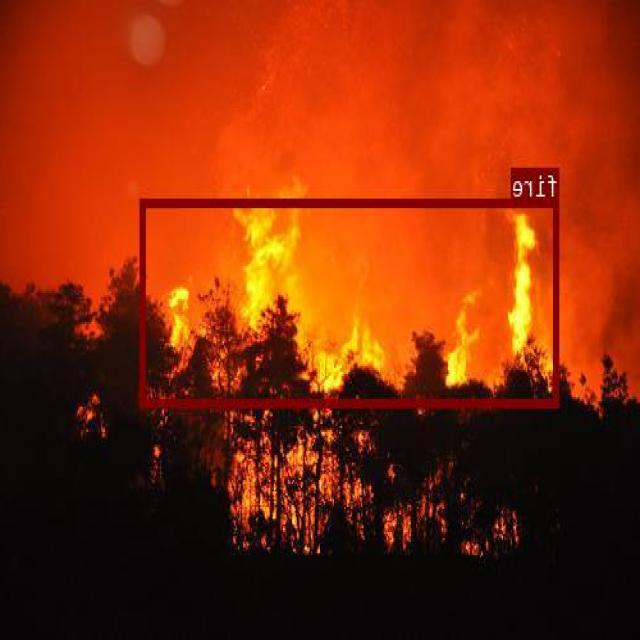fire: (141, 198, 560, 406)
